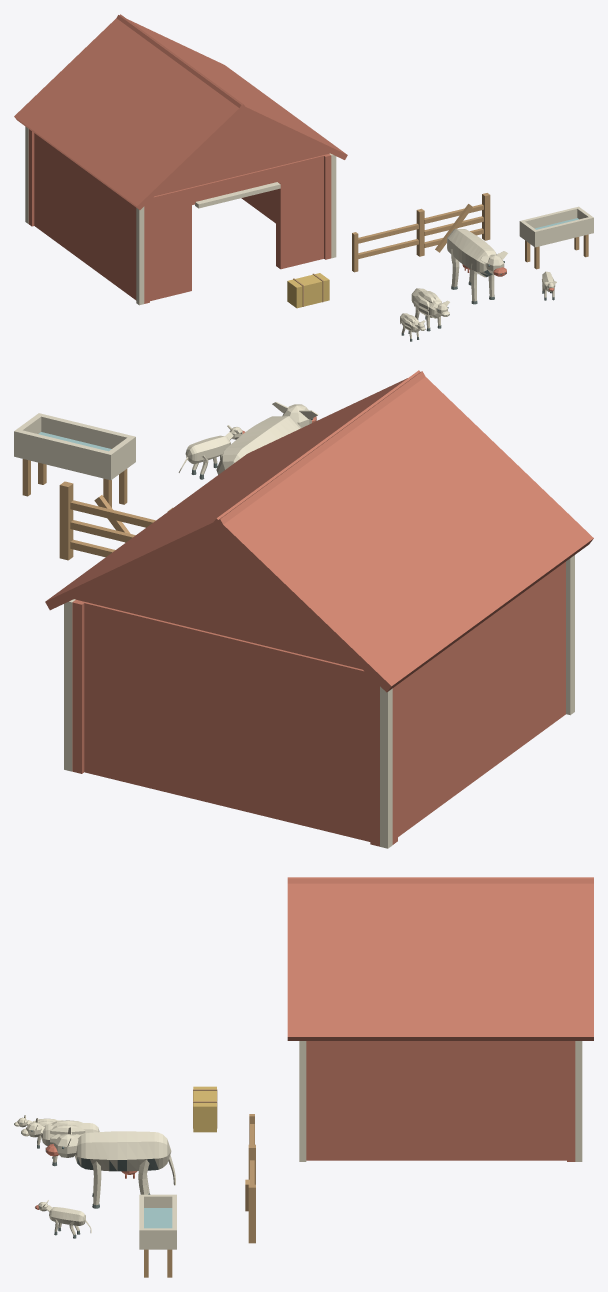
File: farm-livestock-and-barnyard-livestock-pa-9e348903-starter-scene__5044.glb
The picture shows the model from 3 angles, top to bottom: view 1: azimuth 30°, elevation 25°; view 2: azimuth 150°, elevation 25°; view 3: azimuth 270°, elevation 25°; orthographic projection. The views are drawn at different scales.
Visible parts, largest first — view 1: 007-cozy-farm-and-homestead--gable-barn/1, 007-cozy-farm-and-homestead--gable-barn/0, 000-dairy-cow/0, 008-cozy-farm-and-homestead--wash-trough/0, 005-cozy-farm-and-homestead--farm-gate/0, 006-cozy-farm-and-homestead--hay-bale/1, 004-cozy-farm-and-homestead--split-rail-fence/0, 002-ewe/0, 008-cozy-farm-and-homestead--wash-trough/1; view 2: 007-cozy-farm-and-homestead--gable-barn/1, 008-cozy-farm-and-homestead--wash-trough/0, 007-cozy-farm-and-homestead--gable-barn/0, 005-cozy-farm-and-homestead--farm-gate/0, 000-dairy-cow/0, 001-calf/0, 008-cozy-farm-and-homestead--wash-trough/1; view 3: 007-cozy-farm-and-homestead--gable-barn/1, 000-dairy-cow/0, 007-cozy-farm-and-homestead--gable-barn/0, 008-cozy-farm-and-homestead--wash-trough/0, 002-ewe/0, 006-cozy-farm-and-homestead--hay-bale/1, 005-cozy-farm-and-homestead--farm-gate/0, 001-calf/0, 008-cozy-farm-and-homestead--wash-trough/2.
Part boxes in pixels (x1,y1,x2,y2): 007-cozy-farm-and-homestead--gable-barn/1: (14,14,347,303); 007-cozy-farm-and-homestead--gable-barn/0: (25,126,336,305); 000-dairy-cow/0: (447,228,507,301); 008-cozy-farm-and-homestead--wash-trough/0: (519,206,593,247); 005-cozy-farm-and-homestead--farm-gate/0: (416,193,490,256); 006-cozy-farm-and-homestead--hay-bale/1: (287,273,329,308); 004-cozy-farm-and-homestead--split-rail-fence/0: (352,223,418,272); 002-ewe/0: (411,288,449,328); 008-cozy-farm-and-homestead--wash-trough/1: (525,234,588,269); 007-cozy-farm-and-homestead--gable-barn/1: (45,370,593,846); 008-cozy-farm-and-homestead--wash-trough/0: (14,413,135,480); 007-cozy-farm-and-homestead--gable-barn/0: (64,555,574,848); 005-cozy-farm-and-homestead--farm-gate/0: (59,481,172,560); 000-dairy-cow/0: (216,402,318,474); 001-calf/0: (178,425,242,474); 008-cozy-farm-and-homestead--wash-trough/1: (22,459,127,507); 007-cozy-farm-and-homestead--gable-barn/1: (287,877,593,1161); 000-dairy-cow/0: (54,1127,175,1205); 007-cozy-farm-and-homestead--gable-barn/0: (299,1041,582,1161); 008-cozy-farm-and-homestead--wash-trough/0: (139,1194,176,1249); 002-ewe/0: (21,1118,99,1162); 006-cozy-farm-and-homestead--hay-bale/1: (193,1086,216,1132); 005-cozy-farm-and-homestead--farm-gate/0: (245,1144,255,1243); 001-calf/0: (38,1200,91,1234); 008-cozy-farm-and-homestead--wash-trough/2: (144,1208,172,1228).
Size of the model in its own units: 12.11 by 5.25 by 12.31.
